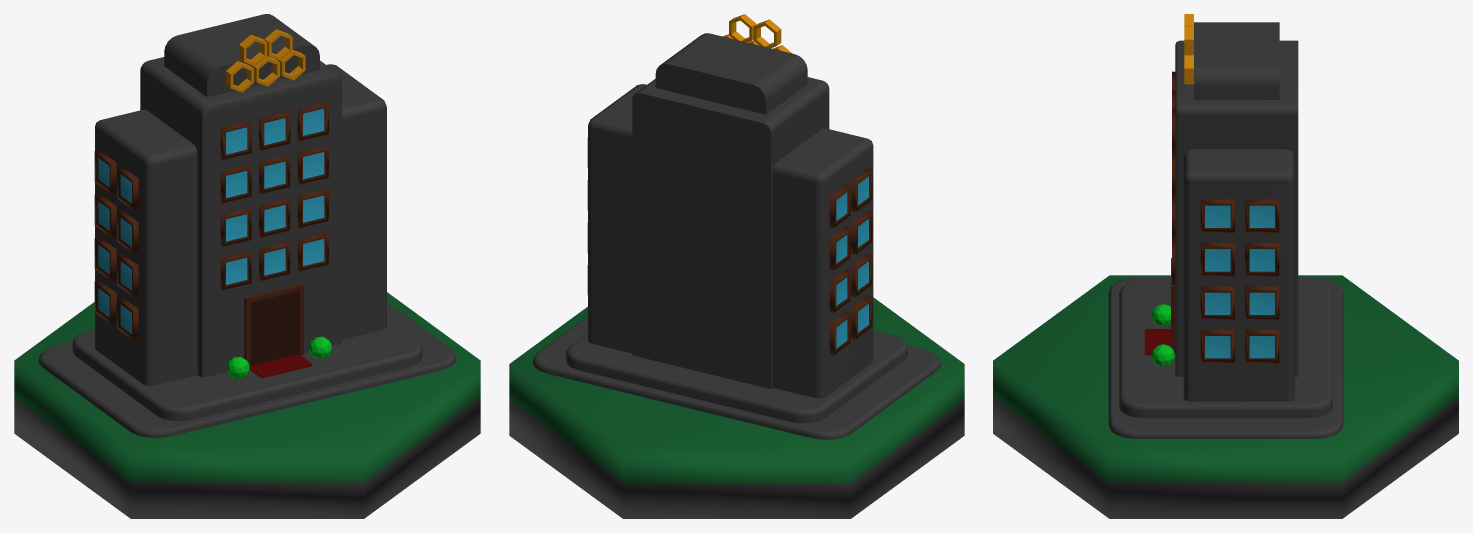
Rendered from SM_Hotel.FBX.
3 renders of one model, left to right at view 1: azimuth 30°, elevation 25°; view 2: azimuth 150°, elevation 25°; view 3: azimuth 270°, elevation 25°, orthographic. The views are drawn at different scales.
Parts seen in each view (by area): view 1: SM_Hotel; view 2: SM_Hotel; view 3: SM_Hotel.
Boxes of the visible parts, left/top/right/bottom form: SM_Hotel: left=14, top=14, right=480, bottom=518; SM_Hotel: left=509, top=14, right=964, bottom=518; SM_Hotel: left=993, top=14, right=1458, bottom=518.
Size of the model in its own units: 100 by 115 by 113.
